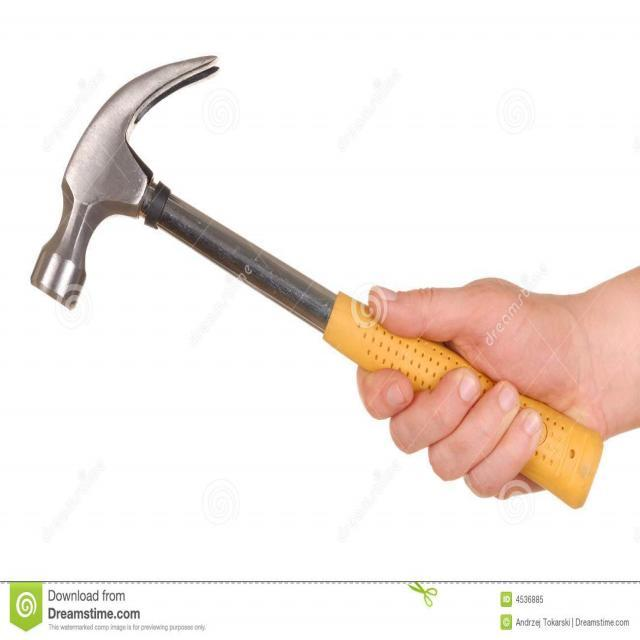hammer: (27, 49, 610, 518)
